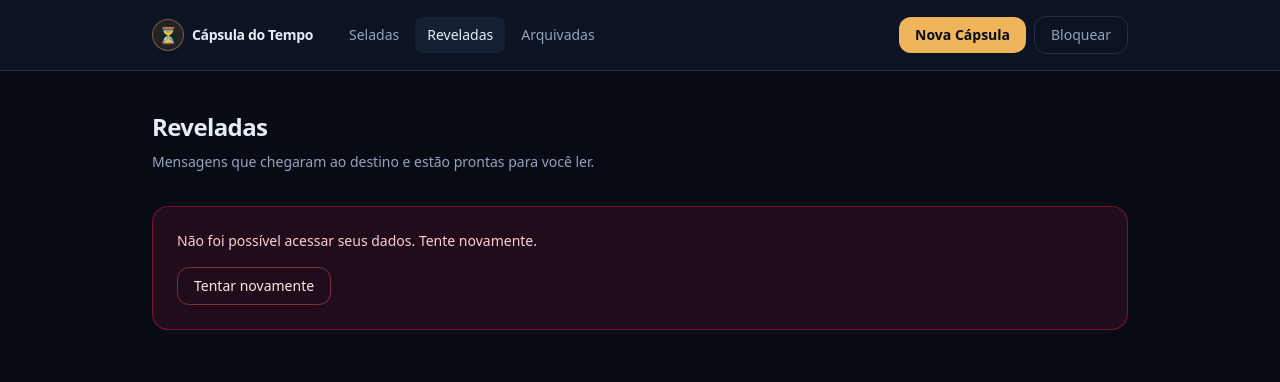
Test case: listas de reveladas e arquivadas › mostra erro e tenta novamente
expect the message shows "Não foi possível acessar seus dados. Tente novamente.": met, box x1=177 y1=231 x2=537 y2=250
Click the button "Tentar novamente". click: (254, 286)
box: x1=177 y1=267 x2=331 y2=305
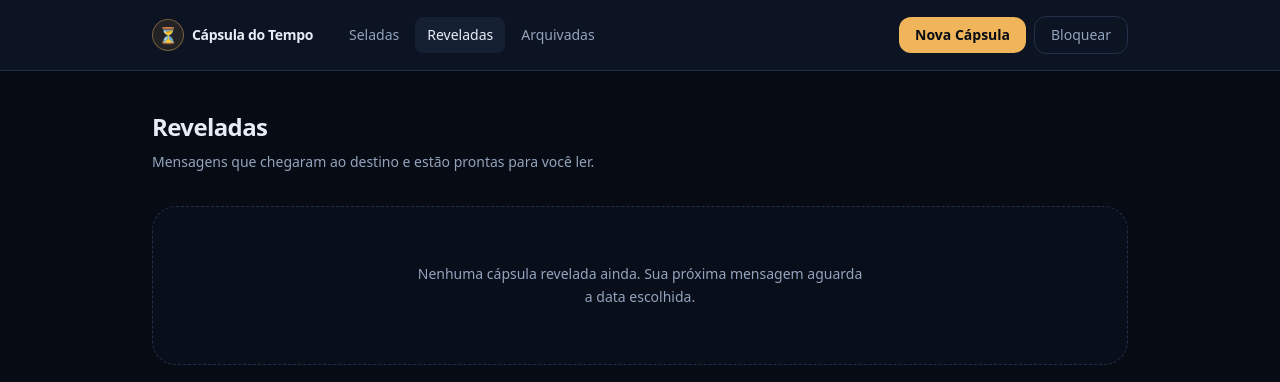
expect the text "Nenhuma cápsula revelada ainda. Sua próxima mensagem aguarda a data escolhida." is shown: met, box x1=416 y1=263 x2=864 y2=308
